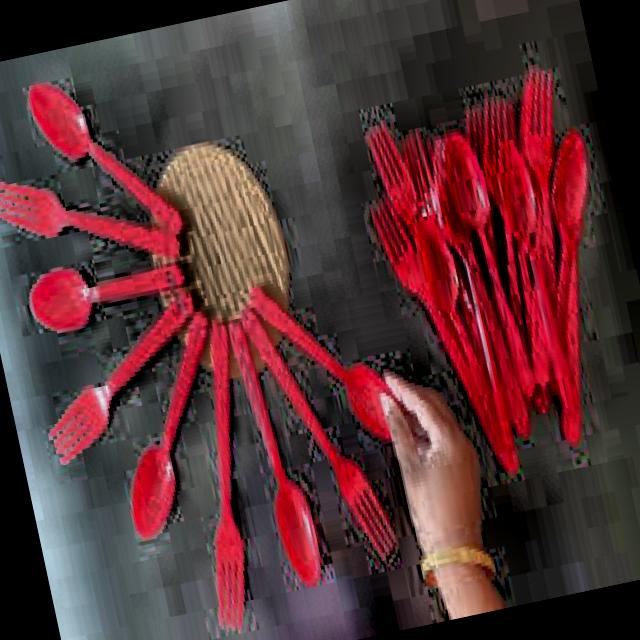plastic utensil: (244, 308, 395, 558), (49, 292, 193, 462), (231, 320, 320, 584), (29, 83, 183, 234), (250, 288, 391, 439), (131, 312, 208, 536), (0, 183, 180, 256), (210, 320, 244, 630), (31, 268, 182, 330)
